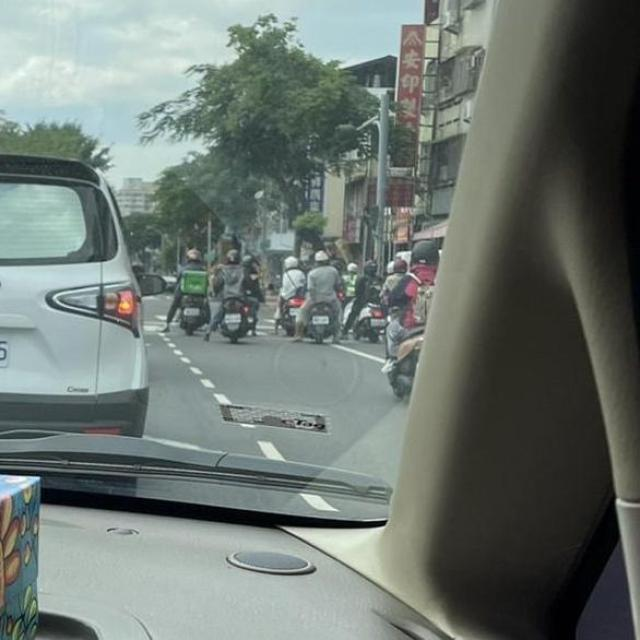W: (0, 322, 16, 374), (219, 309, 247, 326), (307, 310, 333, 327)
